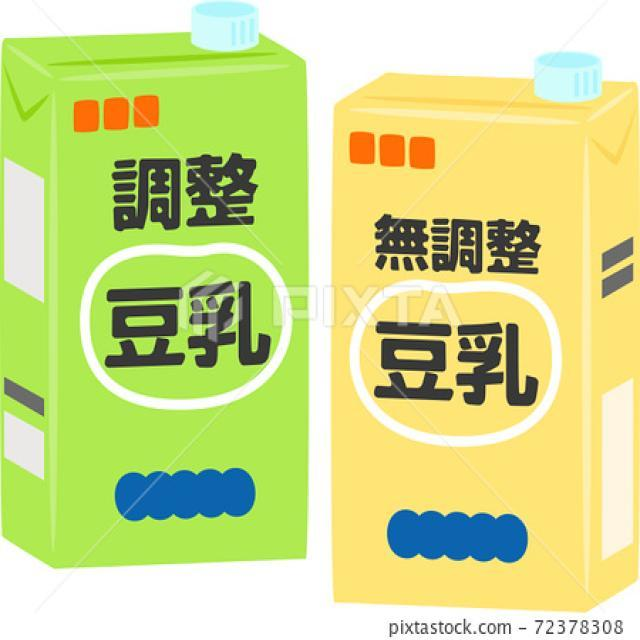Tetra: (0, 26, 314, 582), (332, 64, 640, 610)
